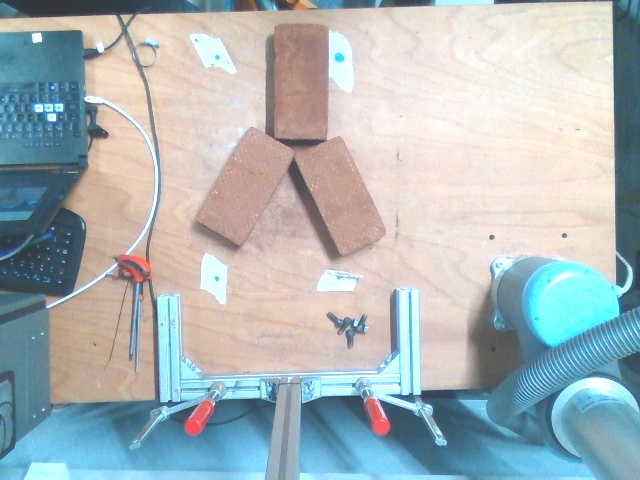brick: (194, 127, 295, 245), (293, 134, 388, 257), (272, 25, 327, 139)
